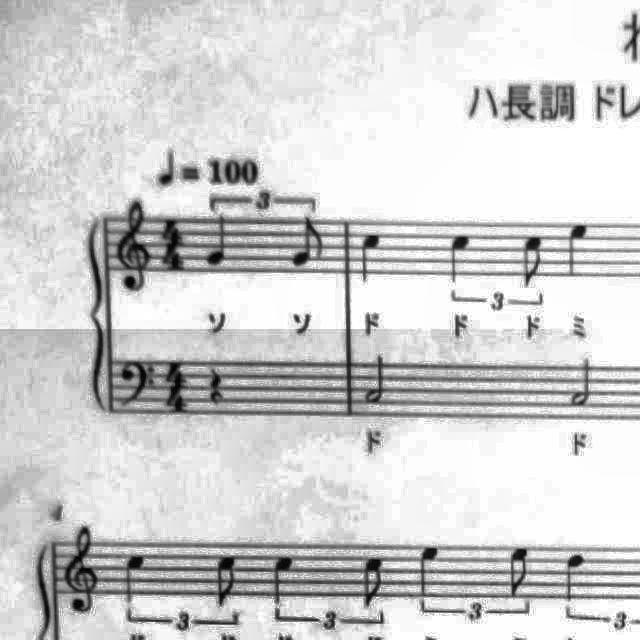Bass-clef: (114, 355, 158, 413)
Eighth-note: (285, 213, 327, 274), (514, 230, 552, 294), (208, 548, 244, 612), (355, 553, 389, 613), (506, 541, 538, 601)
Half-note: (565, 352, 599, 412), (359, 351, 391, 409)
Quarter-note: (558, 217, 594, 283), (352, 224, 388, 290), (442, 227, 478, 289), (410, 540, 446, 600), (266, 550, 302, 610), (119, 548, 153, 610), (202, 212, 236, 272), (557, 546, 591, 606)
Quarter-rest: (202, 362, 230, 410)
Treble-clef: (58, 523, 104, 619), (113, 198, 157, 298)
